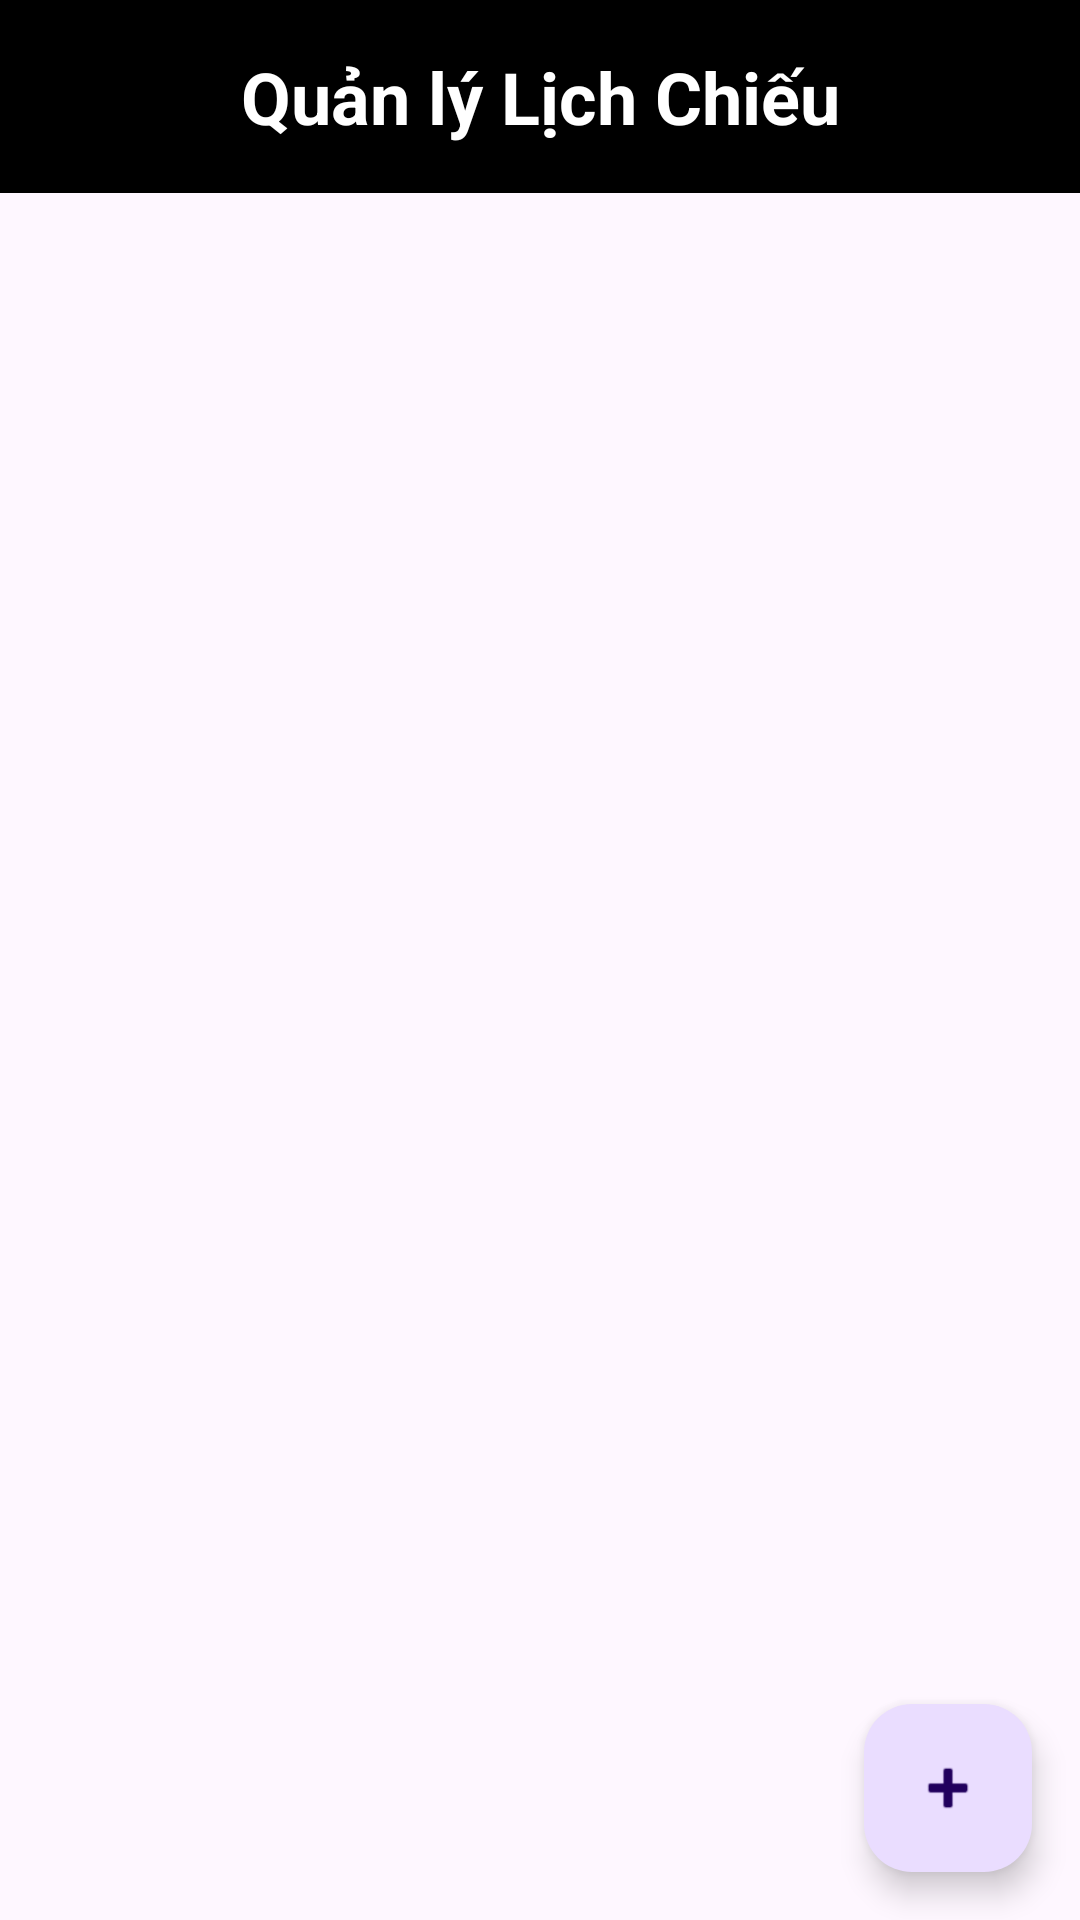

Icons on this 1080 x 1920 Android screen, each with its box as detection(x1, y1, x2, y2):
Thêm Lịch Chiếu Mới: detection(864, 1704, 1032, 1872)
